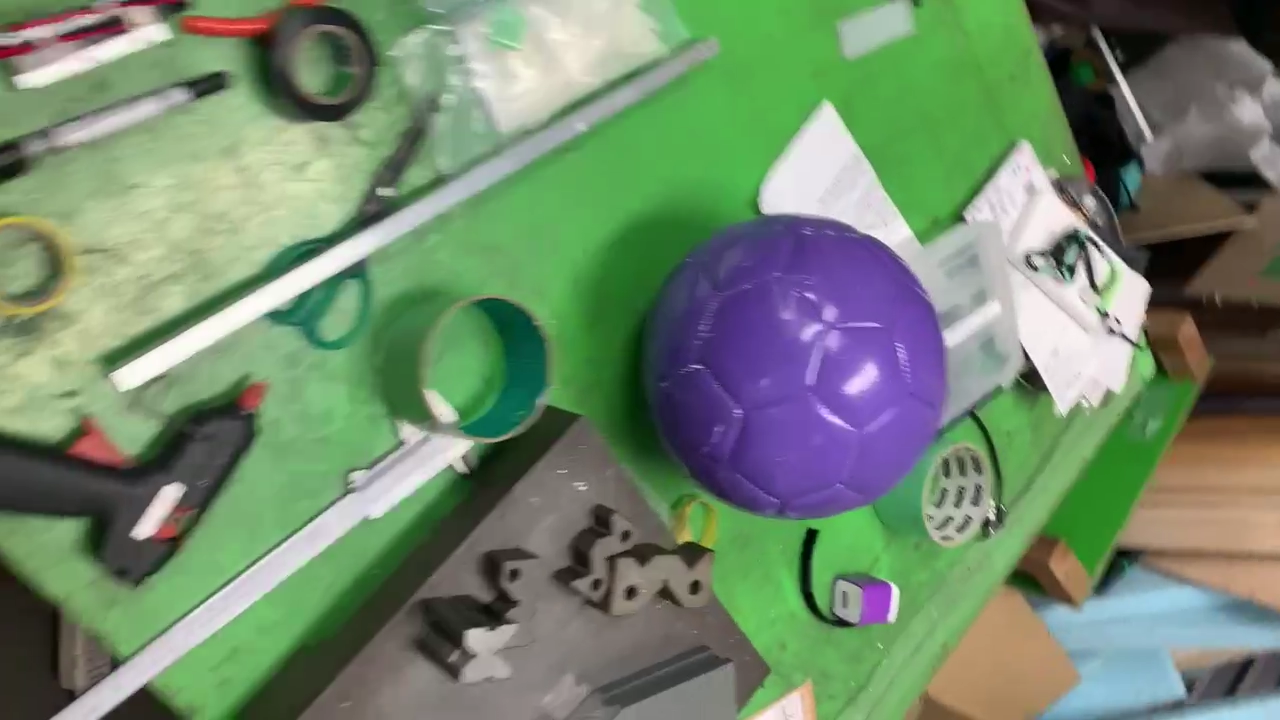purple: (639, 217, 946, 521)
